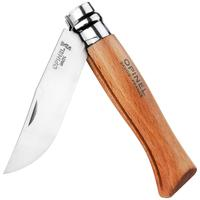knife: (3, 2, 194, 196), (2, 1, 114, 178)
